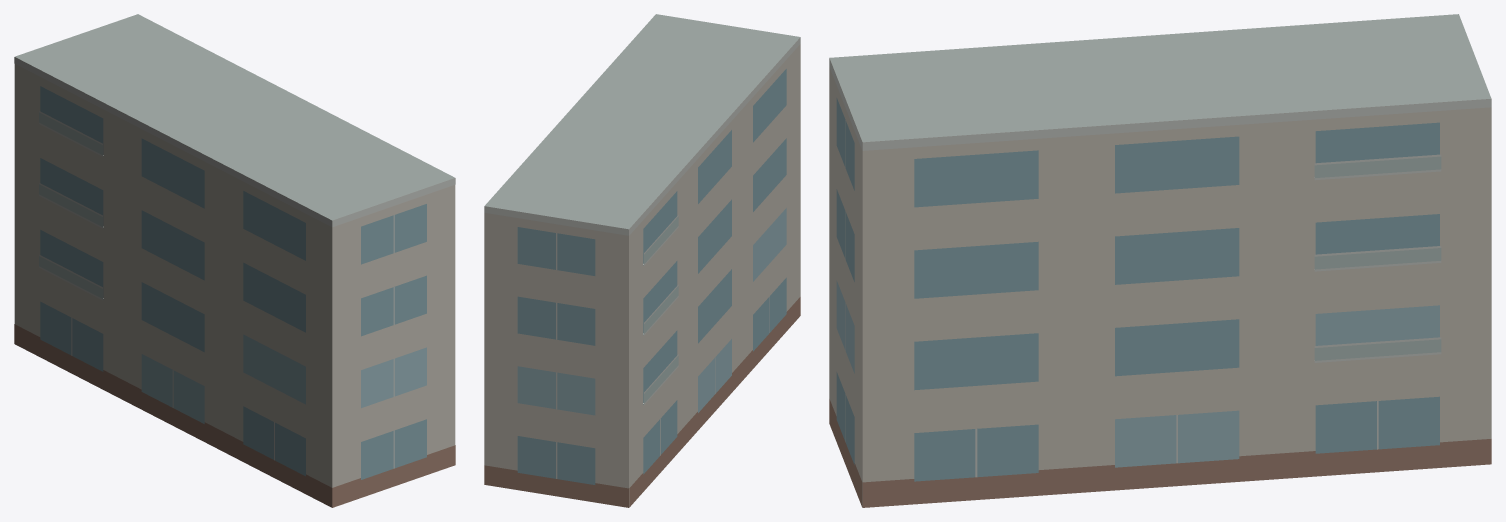
The model's file is survey-upis-33029847.glb.
3 renders of one model, left to right at view 1: azimuth 30°, elevation 25°; view 2: azimuth 150°, elevation 25°; view 3: azimuth 270°, elevation 25°, orthographic. The views are drawn at different scales.
Parts seen in each view (by area): view 1: survey-upis-33029847.tmp; view 2: survey-upis-33029847.tmp; view 3: survey-upis-33029847.tmp.
Part boxes in pixels (box(x1,y1,x2,y2)): survey-upis-33029847.tmp: box(14, 14, 455, 507); survey-upis-33029847.tmp: box(484, 14, 800, 507); survey-upis-33029847.tmp: box(829, 14, 1491, 507).
Size of the model in its own units: 7.8 by 10.35 by 17.
